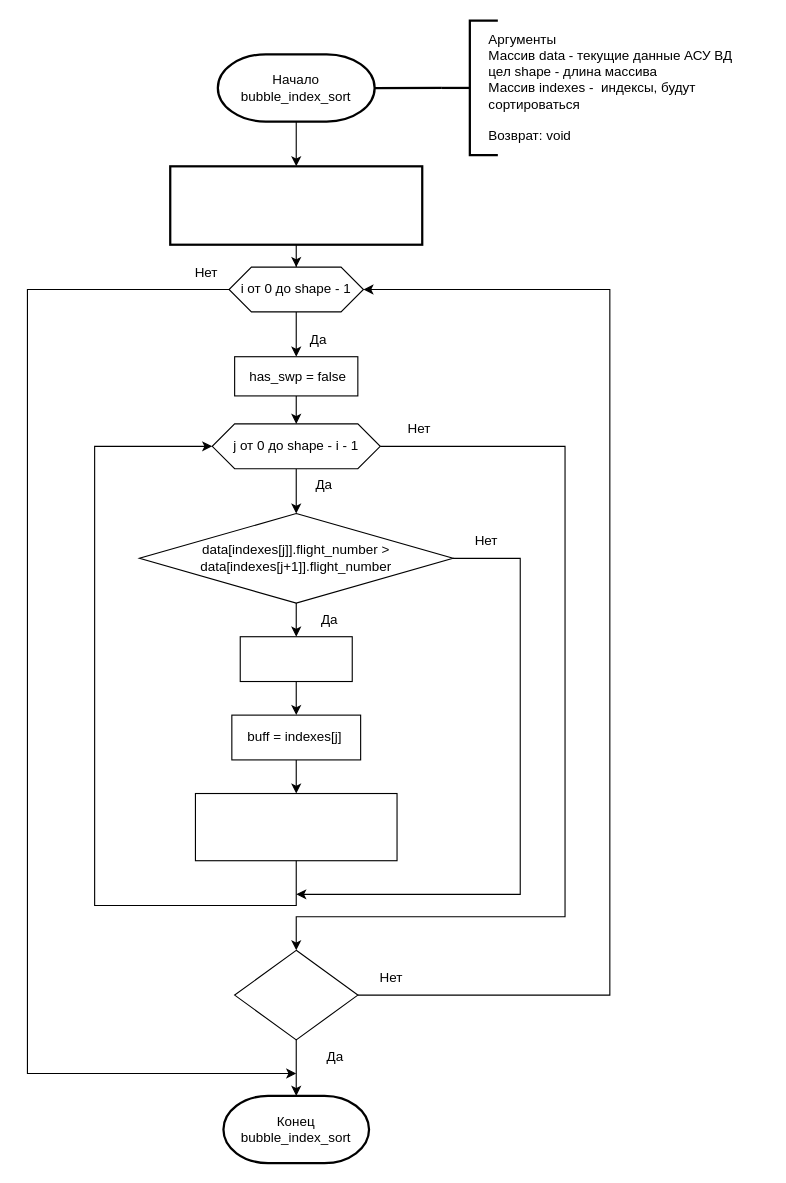
Image size: 786x1183. Some labels were removed from this diagram. The shapes that lost their labels are listed below. From the top down, each one's centre as x and y in pixels, then its label:
[296,205]: логич has_swp - была ли перестановка цел buff - буфер для перестановки
[295,659]: has_swp = true
[295,826]: indexes[j] = indexes[j +1] indexes[j+1] = buff
[296,994]: Не has_swp
